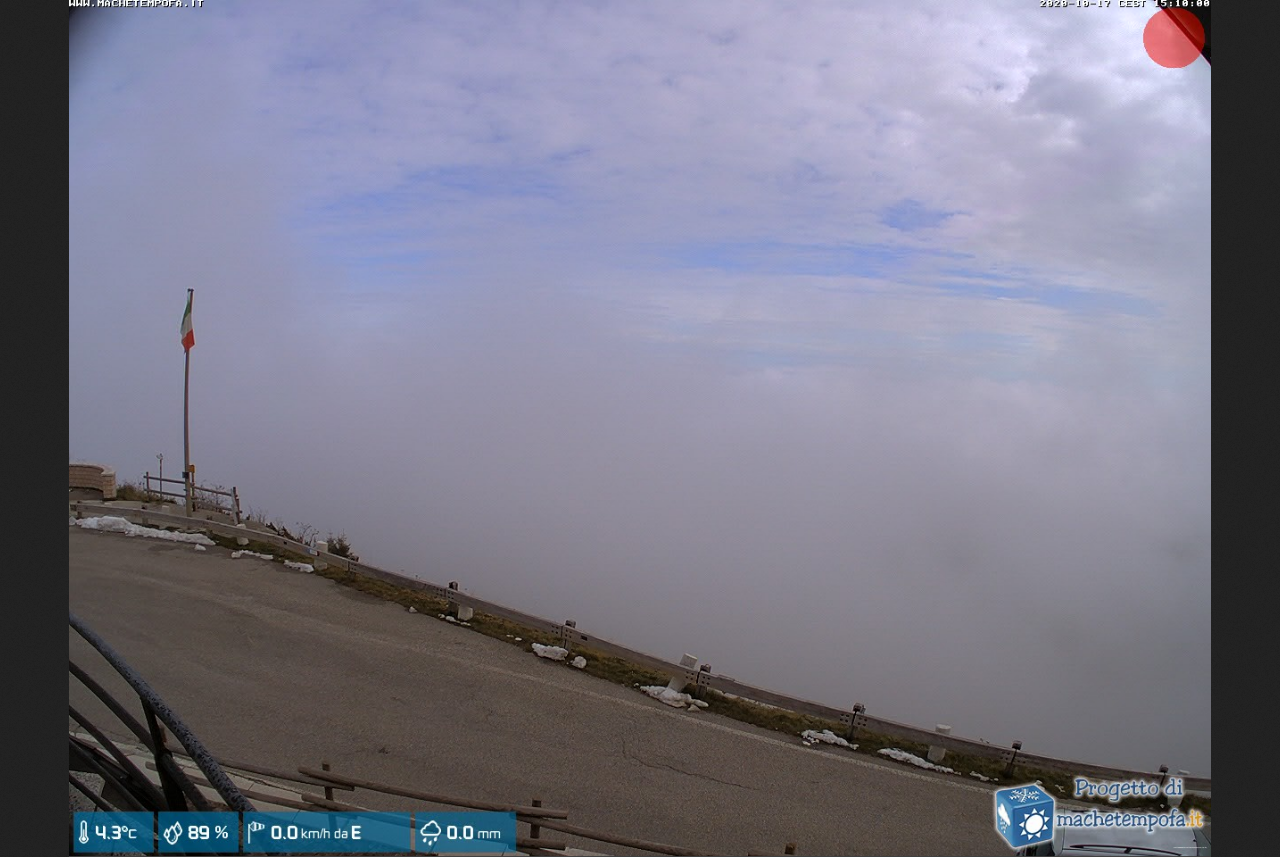no: (176, 282, 202, 357)
